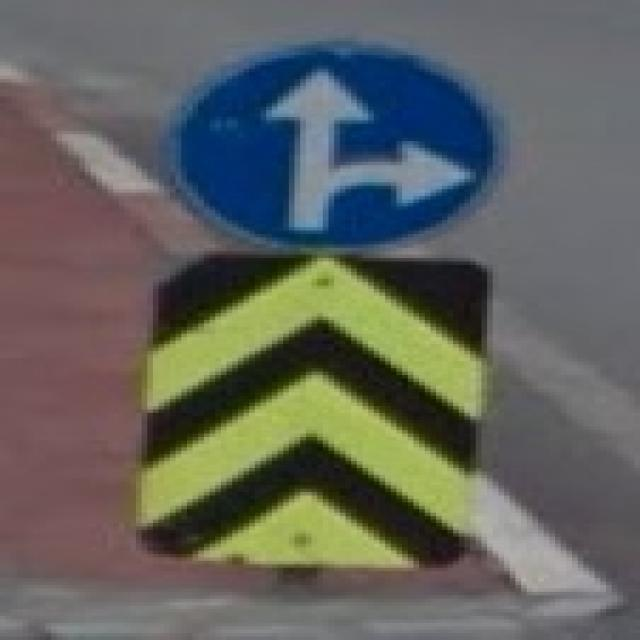Straight or Right: (171, 46, 488, 252)
